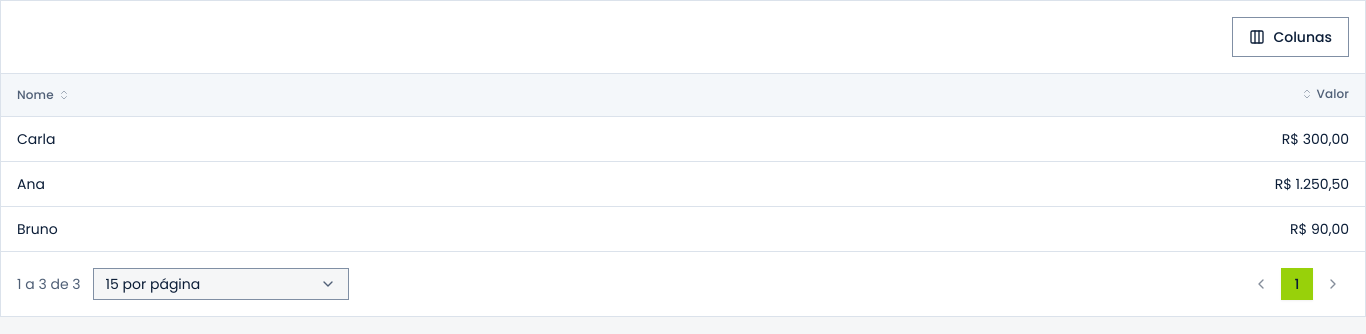
Table › coluna com hidden inicial não aparece, e o menu Colunas alterna a visibilidade
Check: the column heading "Cidade" is not shown
Check: the text "Recife" is not shown
Click the button "Colunas": (1291, 37) [1232,17,1349,57]
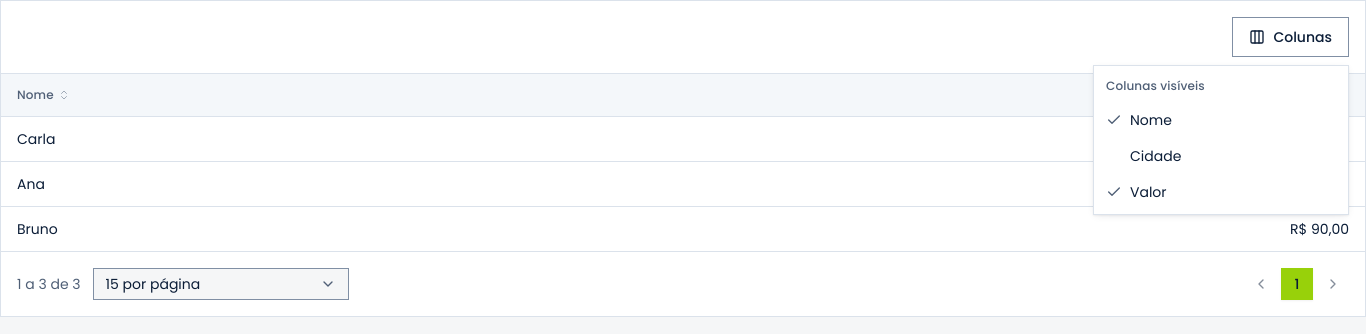
Click the menu item "Cidade": (1156, 156) [1130,146,1181,166]
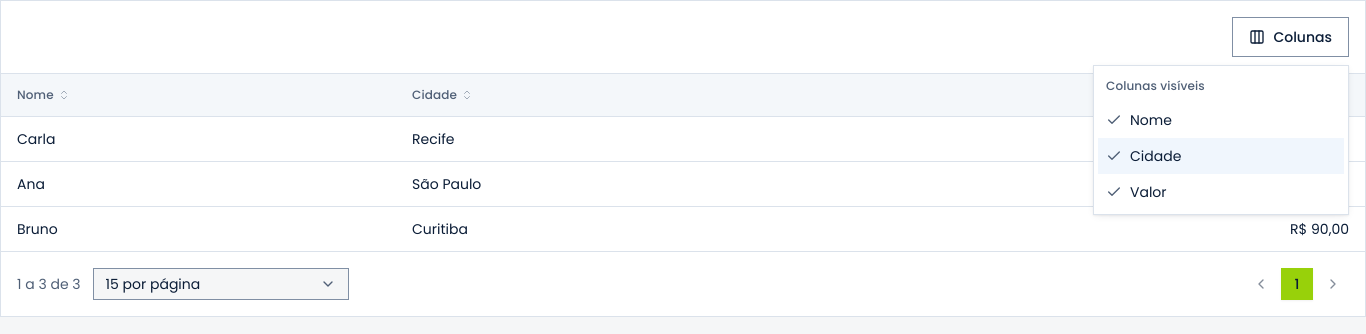
Check: the text "Recife" is shown, box [412,129,454,149]
Click the menu item "Cidade": (1221, 156) [1098,138,1344,174]
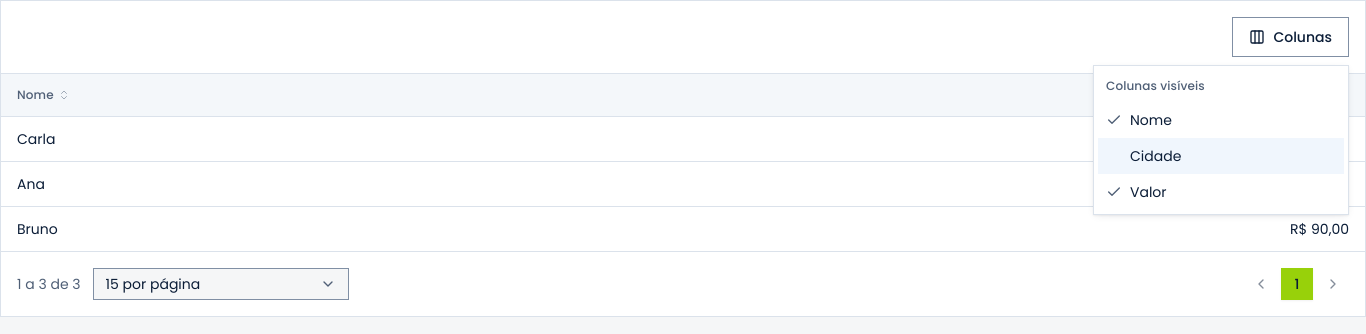
Check: the text "Recife" is gone
